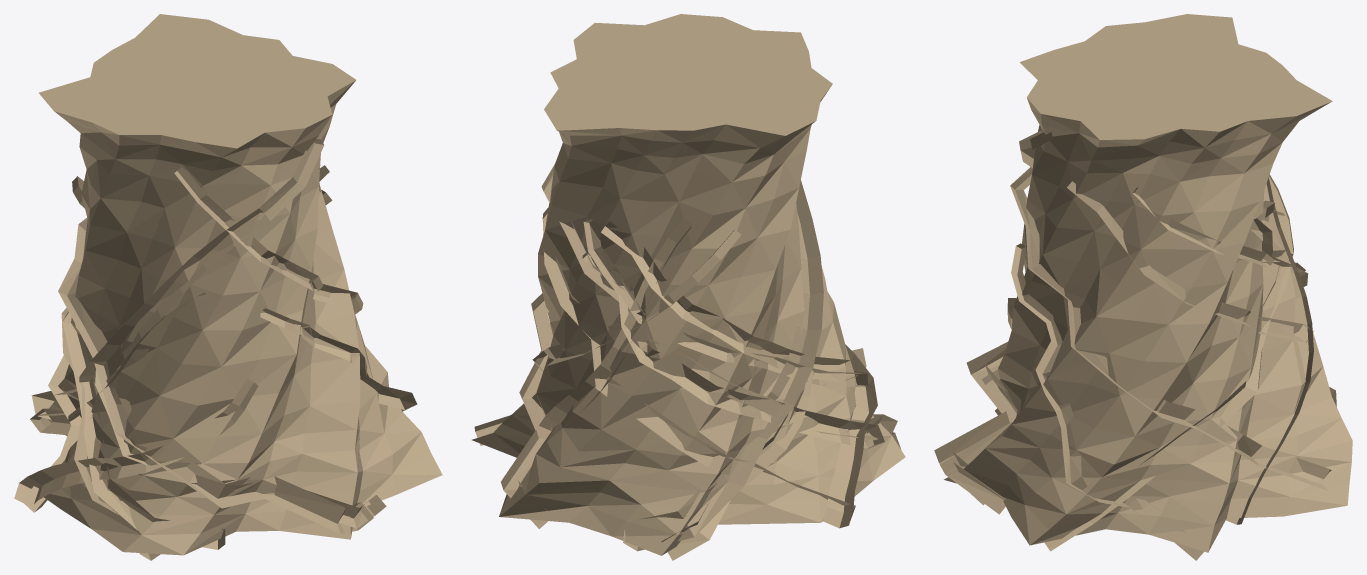
Rendered from tree-heart-trunk-a.glb.
3 renders of one model, left to right at view 1: azimuth 30°, elevation 25°; view 2: azimuth 150°, elevation 25°; view 3: azimuth 270°, elevation 25°, orthographic. The views are drawn at different scales.
Parts seen in each view (by area): view 1: tree-heart-trunk-a; view 2: tree-heart-trunk-a; view 3: tree-heart-trunk-a.
Boxes of the visible parts, box(x1,y1,x2,y2) form: tree-heart-trunk-a: box(14, 14, 442, 560); tree-heart-trunk-a: box(472, 14, 905, 560); tree-heart-trunk-a: box(934, 14, 1352, 560).
Bounding box in the file's own units: 0.9712 × 1 × 0.9643.
